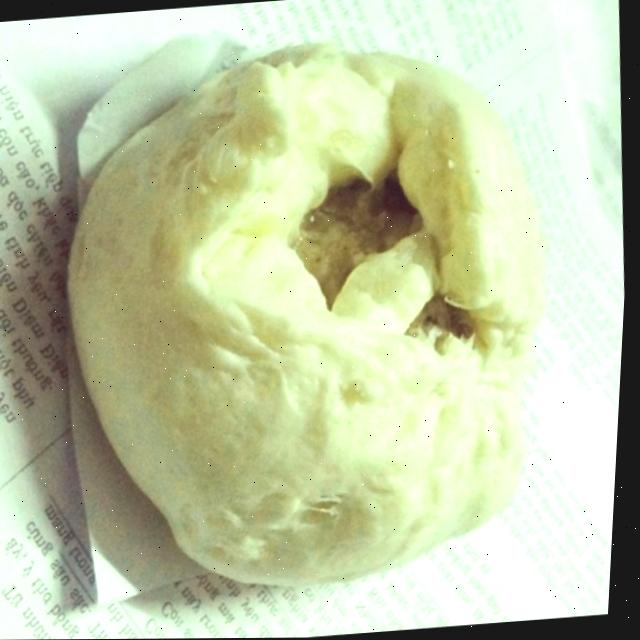带馅早点: (26, 15, 612, 612)
